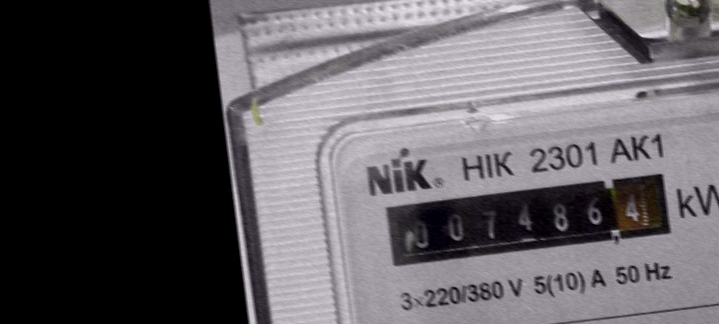0: (409, 216, 433, 252), (446, 210, 468, 245)
4: (514, 198, 536, 235), (622, 190, 643, 226)
6: (585, 194, 608, 228)
7: (478, 206, 505, 242)
8: (551, 200, 573, 237)
screen: (377, 161, 683, 281)
